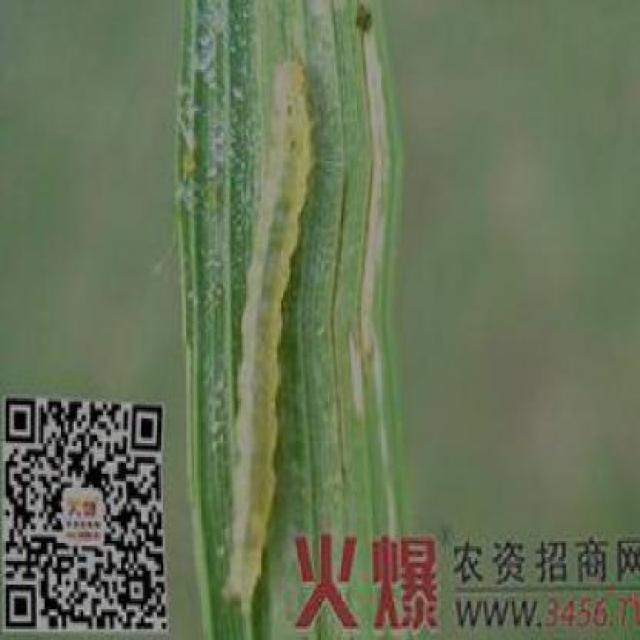leaf-folder: (221, 47, 314, 516)
